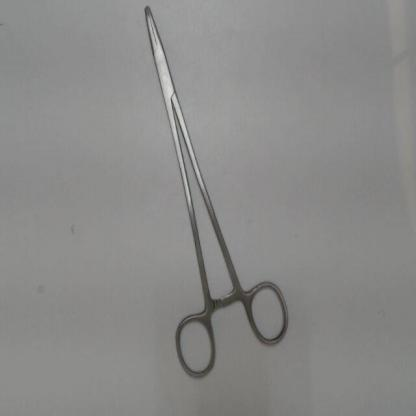8 Mayo Needle Holder: (137, 2, 295, 388)
